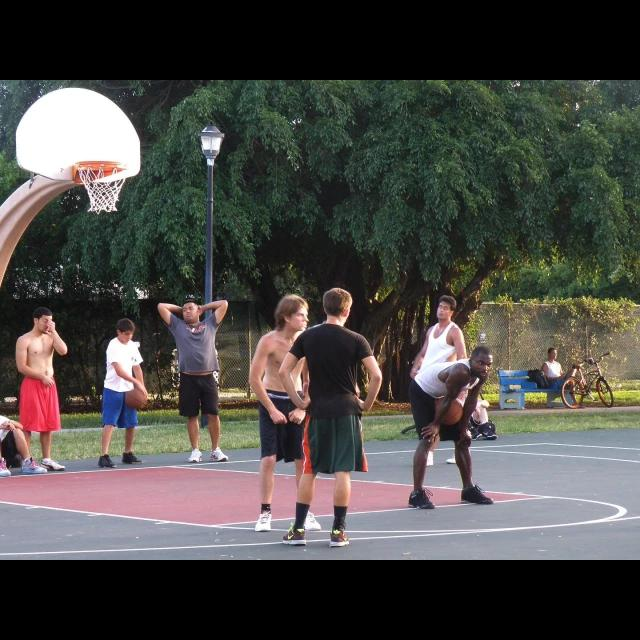basketball: (437, 397, 463, 426), (125, 388, 148, 408)
hoop: (75, 159, 123, 212)
